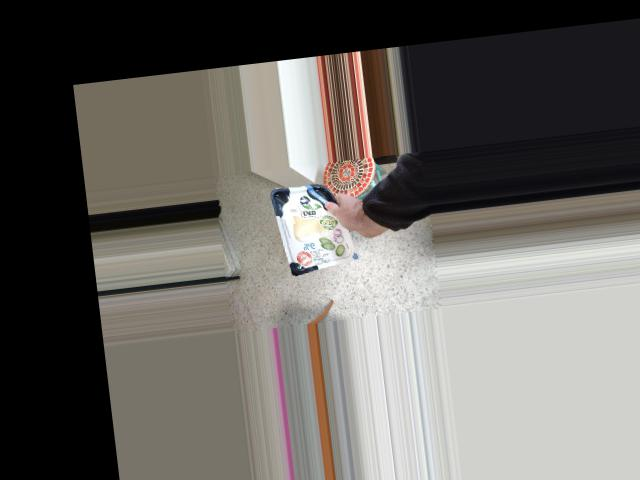cheese: (294, 194, 372, 272)
